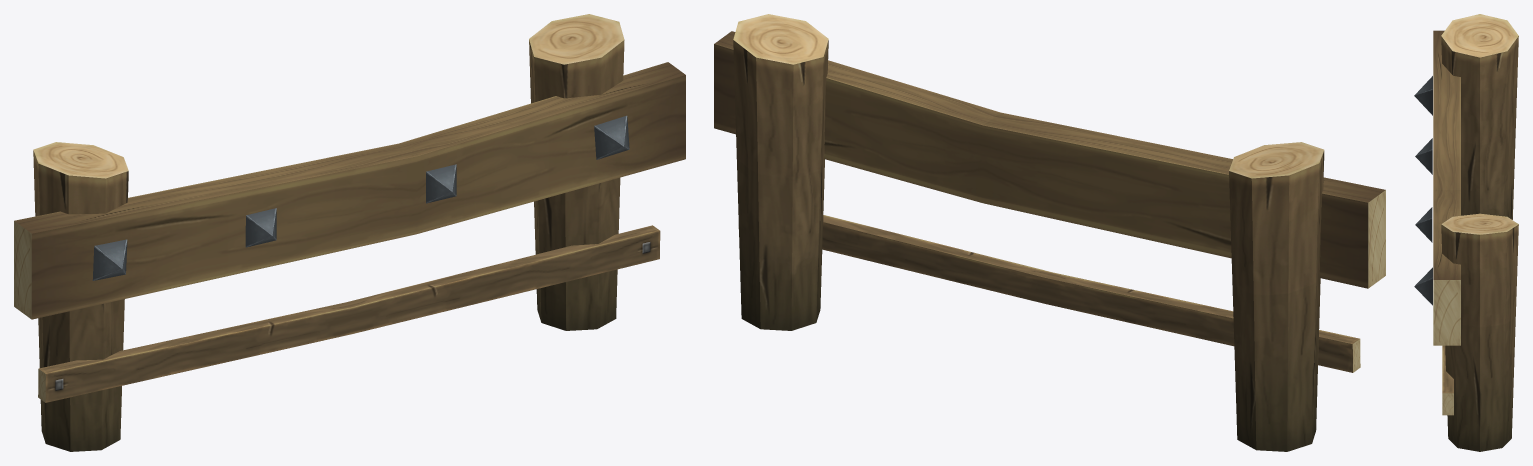
File: wooden_fence_56.fbx
The picture shows the model from 3 angles, left to right: view 1: azimuth 30°, elevation 25°; view 2: azimuth 150°, elevation 25°; view 3: azimuth 270°, elevation 25°; orthographic projection. The views are drawn at different scales.
Visible parts, largest first — view 1: wooden_fence_56:Mesh; view 2: wooden_fence_56:Mesh; view 3: wooden_fence_56:Mesh.
Part boxes in pixels (<box>): wooden_fence_56:Mesh: <box>14,14,685,451</box>; wooden_fence_56:Mesh: <box>714,14,1385,451</box>; wooden_fence_56:Mesh: <box>1414,14,1518,451</box>.
Size of the model in its own units: 7.18 by 2.96 by 1.28.
